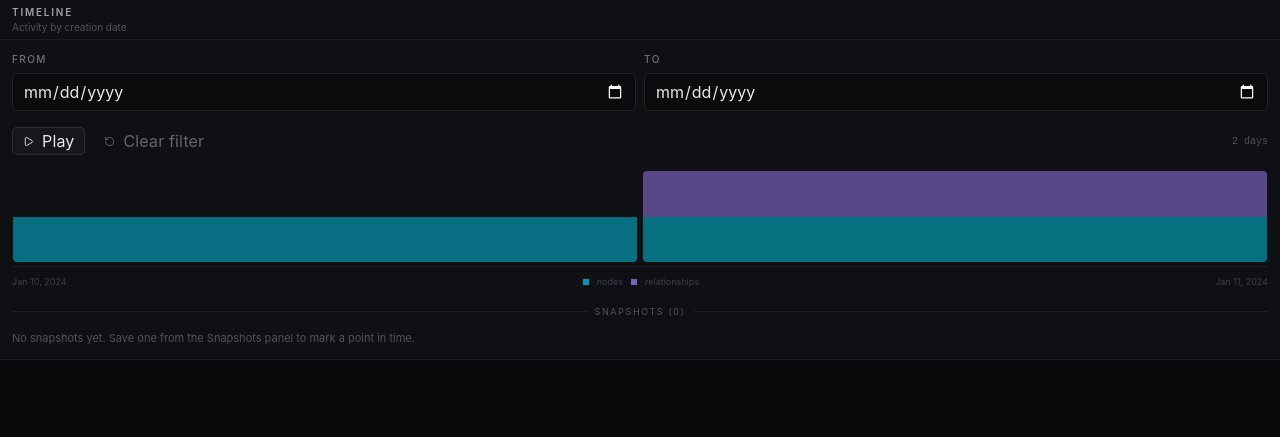
Test: TimelinePanel › filters the graph to a selected day
Click the button titled "Jan 10, 2024: 1 nodes, 0 relationships".
click(325, 216)  # box [12, 171, 638, 262]
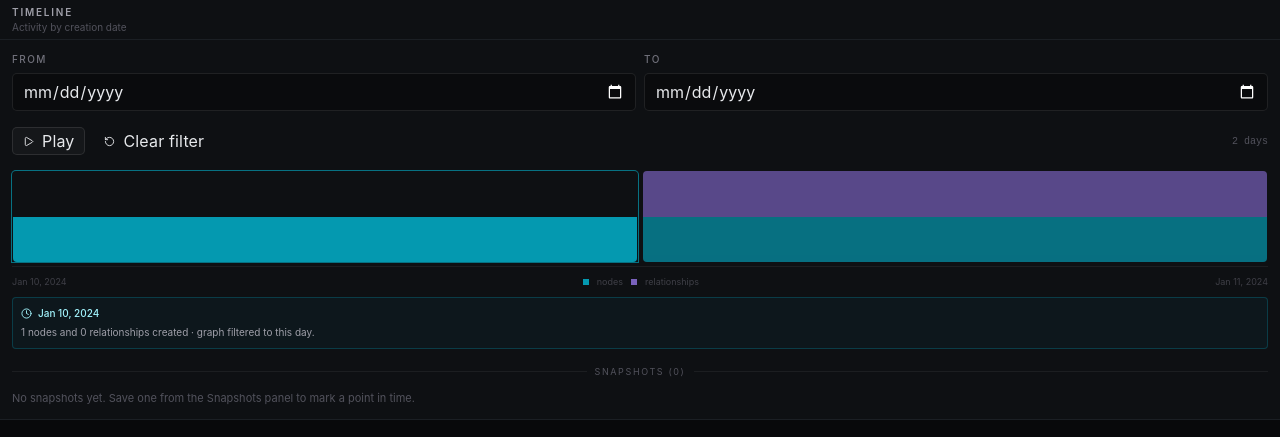
Expected: the text "1 nodes and 0 relationships created · graph filtered to this day" is shown, [21, 326, 315, 338]
Expected: the button "Clear filter" is enabled, [94, 127, 215, 155]
